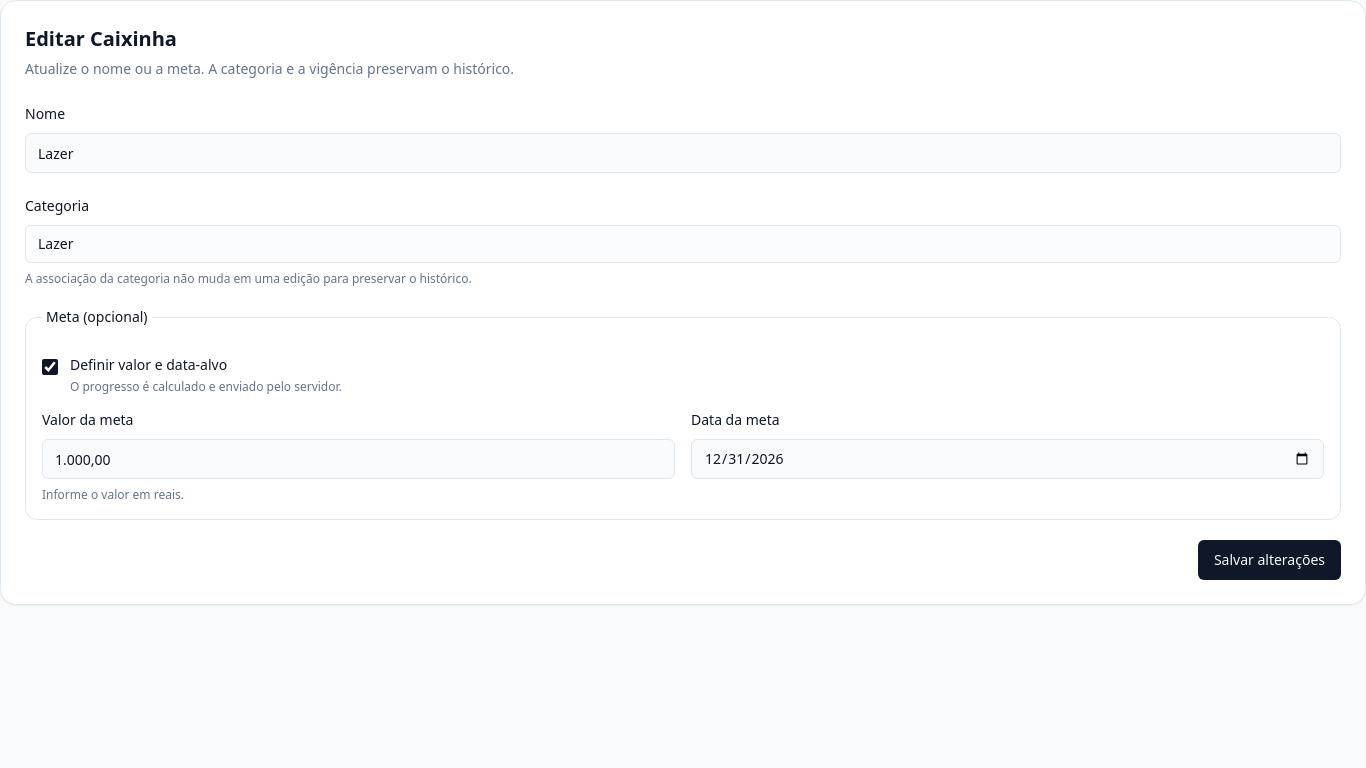
Test: BudgetForm › keeps edit association read-only and surfaces expected server errors
Expected: the text "A associação da categoria não muda em uma edição para preservar o histórico." is shown, [25,270,472,287]
Replace the text in the field labelled "Nome" with "Lazer atualizado". click: (683, 153)
box: [25,133,1341,173]
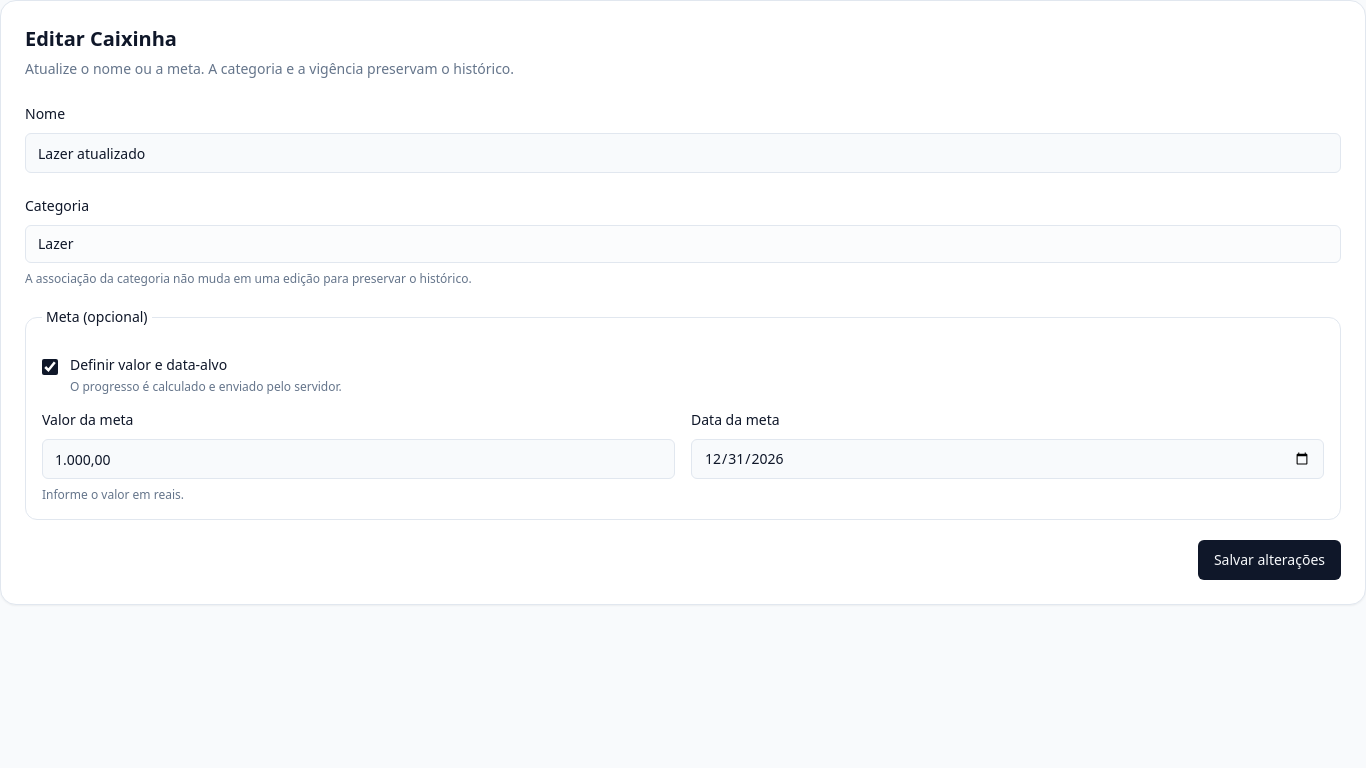
Click the button "Salvar alterações". click: (1269, 560)
box: [1198,540,1341,580]
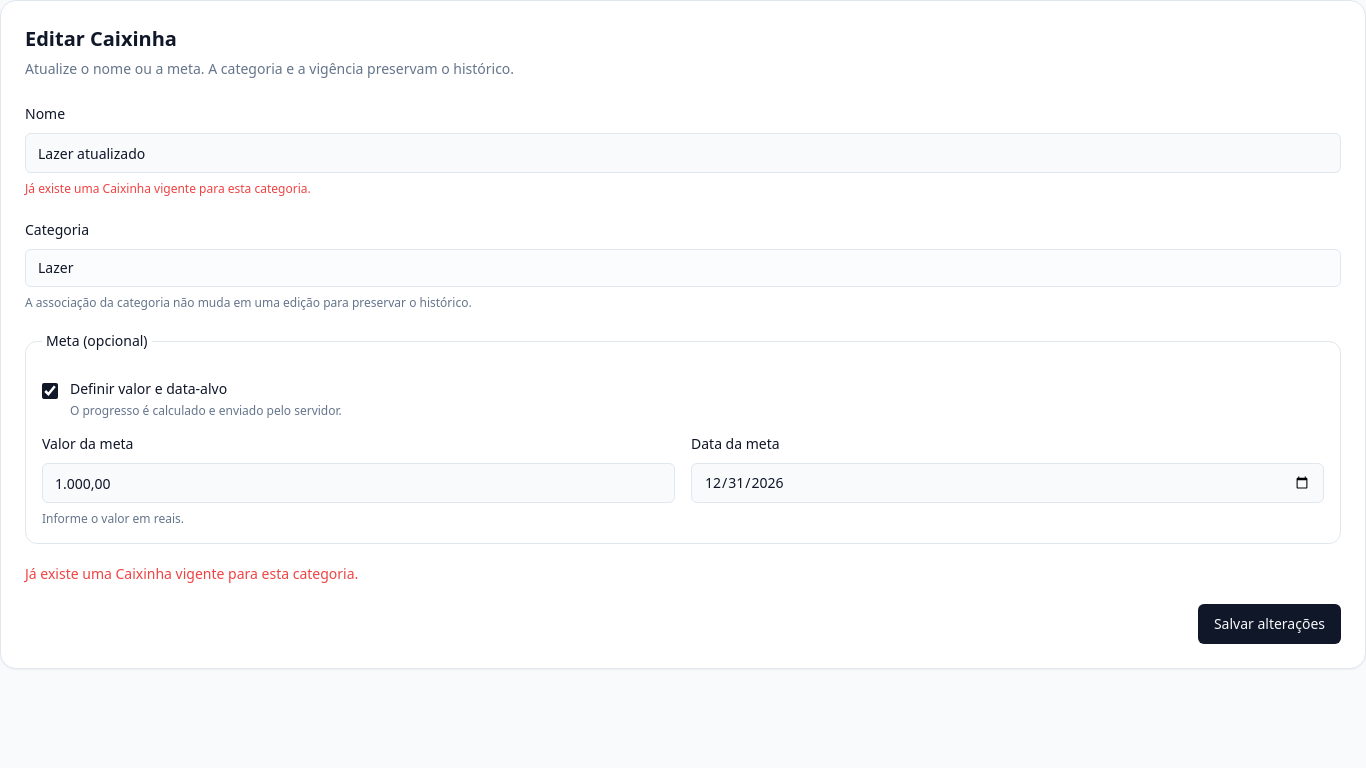
Now the 1st message "Já existe uma Caixinha vigente para esta categoria." is shown, box [25,180,311,197]
